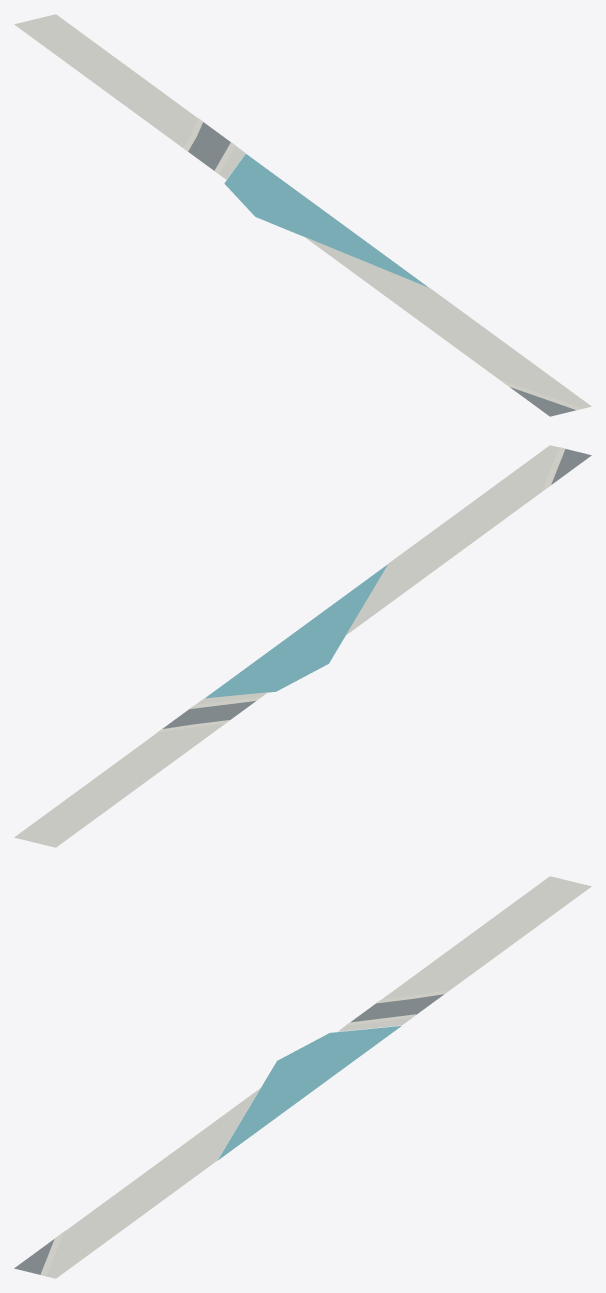
3 renders of one model, top to bottom at view 1: azimuth 30°, elevation 25°; view 2: azimuth 150°, elevation 25°; view 3: azimuth 330°, elevation 25°, orthographic.
Visible parts, largest first — view 1: city; view 2: city; view 3: city.
Boxes of the visible parts, x1,y1,x2,y2 form: city: (14, 14, 591, 416); city: (14, 445, 591, 847); city: (14, 876, 591, 1278).
Bounding box in the file's own units: 31.11 × 0.4 × 500.
